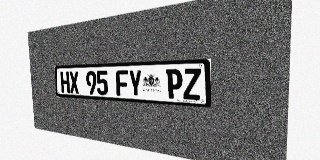5: (96, 70, 108, 95)
9: (86, 71, 97, 95)
F: (116, 70, 129, 96)
H: (60, 71, 70, 93)
P: (166, 69, 183, 99)
X: (69, 71, 79, 94)
Y: (128, 70, 142, 97)
Z: (183, 68, 201, 100)
